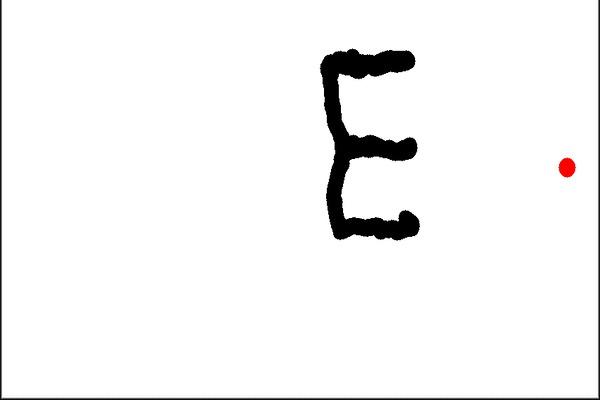E: (315, 41, 444, 246)
